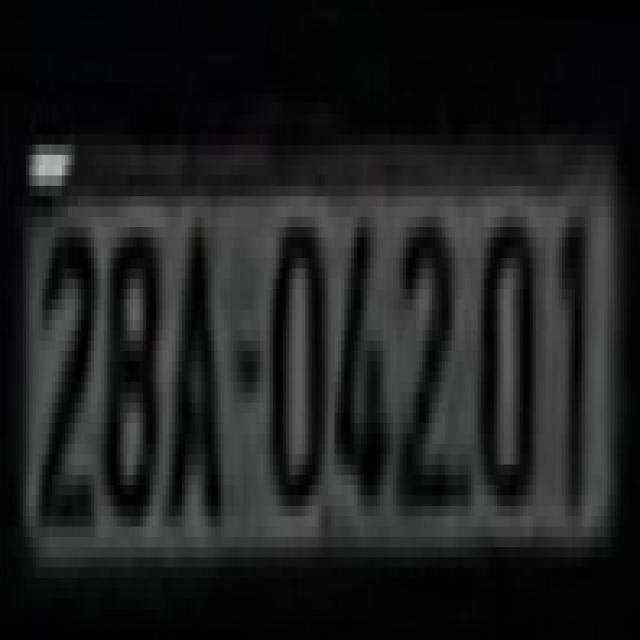0: (267, 207, 328, 516), (478, 207, 539, 516)
1: (556, 207, 591, 516)
2: (396, 206, 471, 506), (36, 217, 97, 526)
4: (332, 207, 386, 516)
8: (104, 217, 159, 526)
A: (166, 206, 227, 526)
